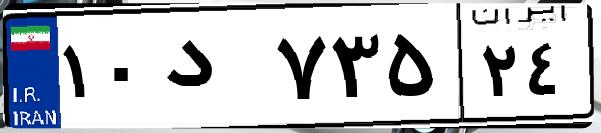0: (110, 28, 158, 98)
1: (57, 26, 110, 100)
2: (475, 38, 525, 113)
3: (330, 28, 385, 110)
4: (525, 38, 570, 115)
5: (385, 28, 445, 110)
7: (270, 28, 330, 110)
د: (158, 20, 270, 120)
